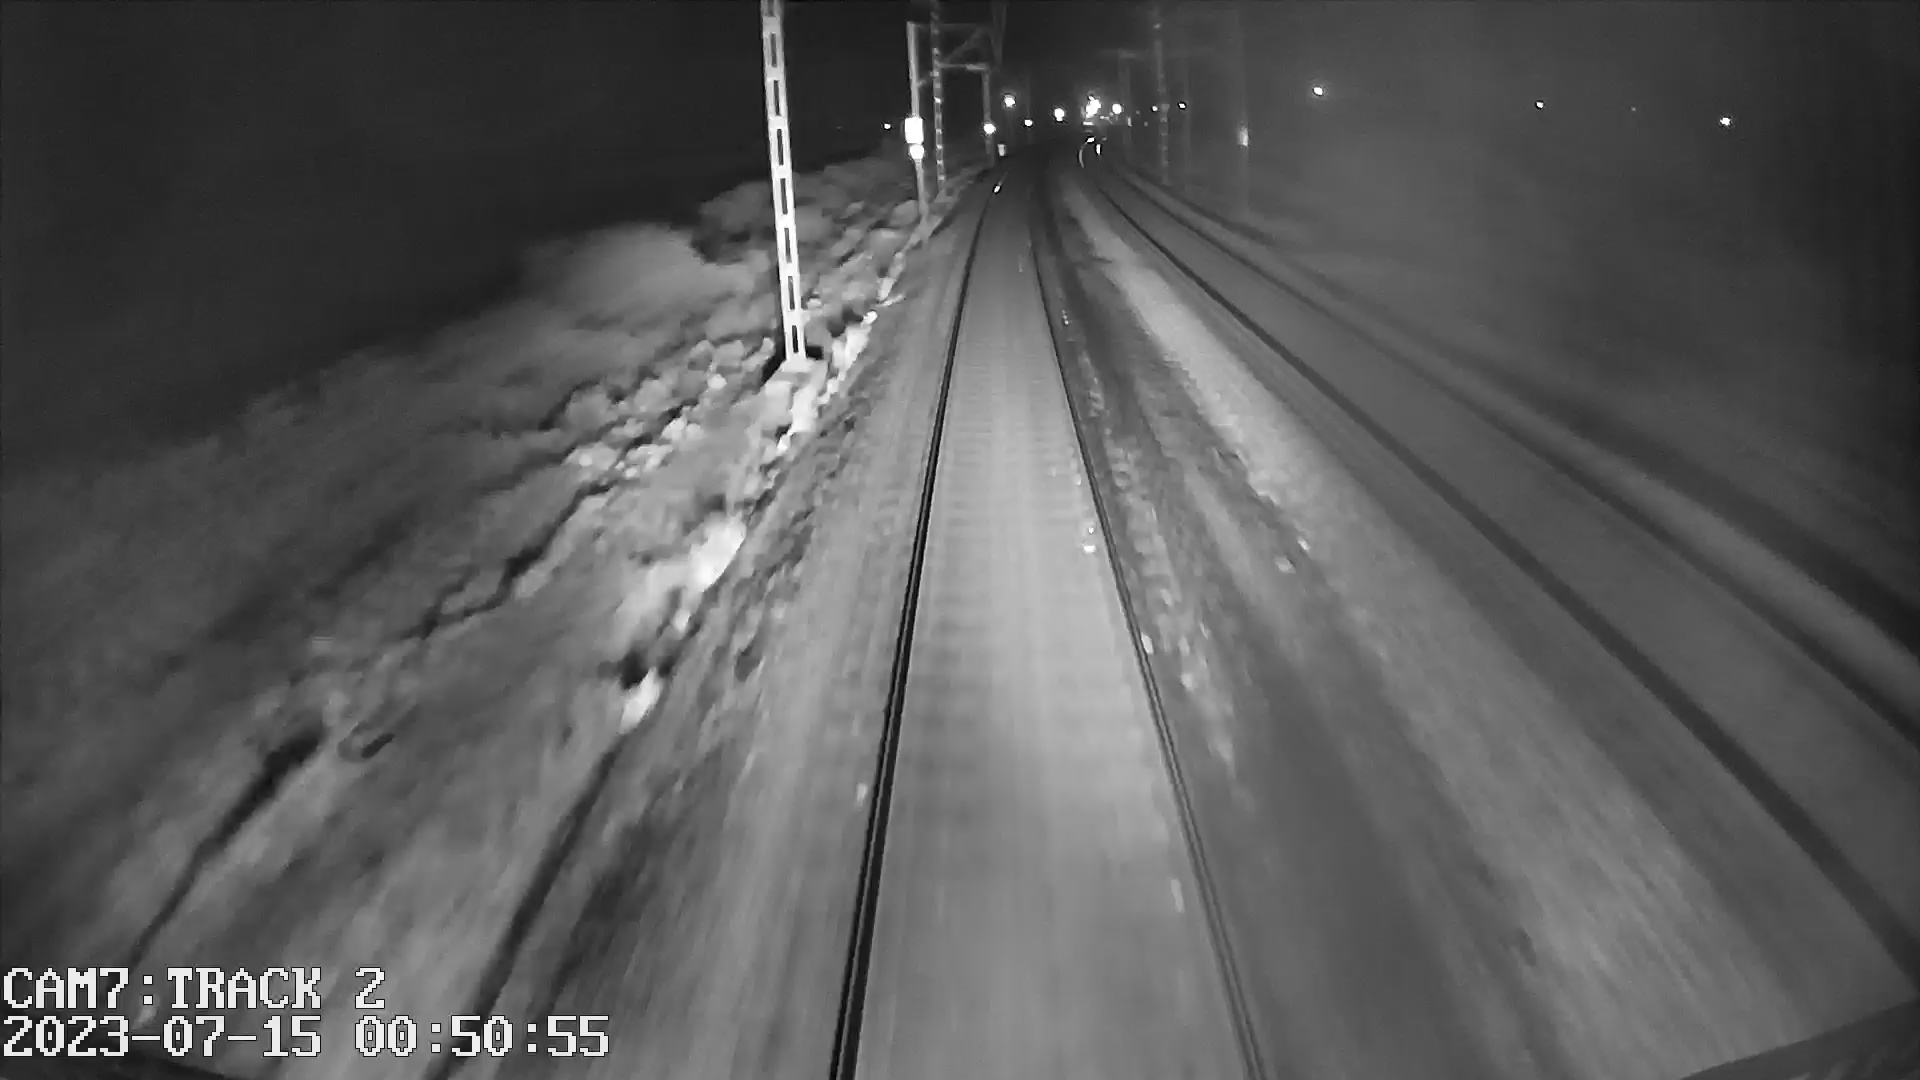track1: (843, 206, 1247, 1044)
track2: (1124, 204, 1907, 870)
